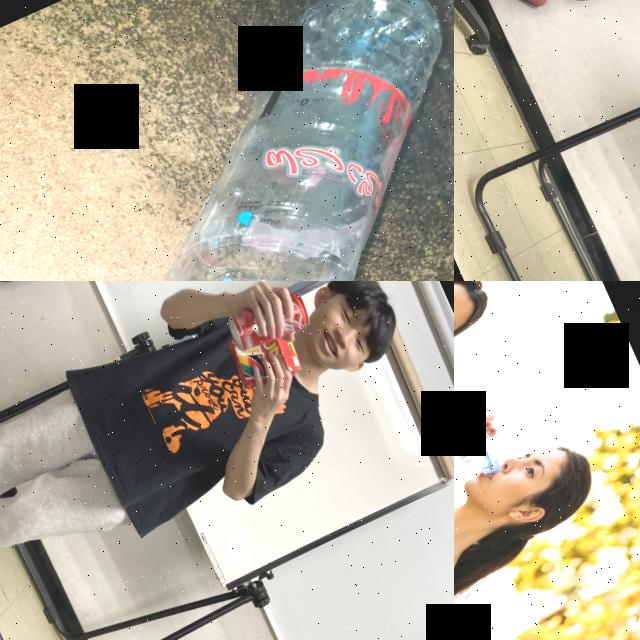bottle: (0, 0, 454, 281), (454, 389, 506, 489)
can: (222, 283, 314, 358)
